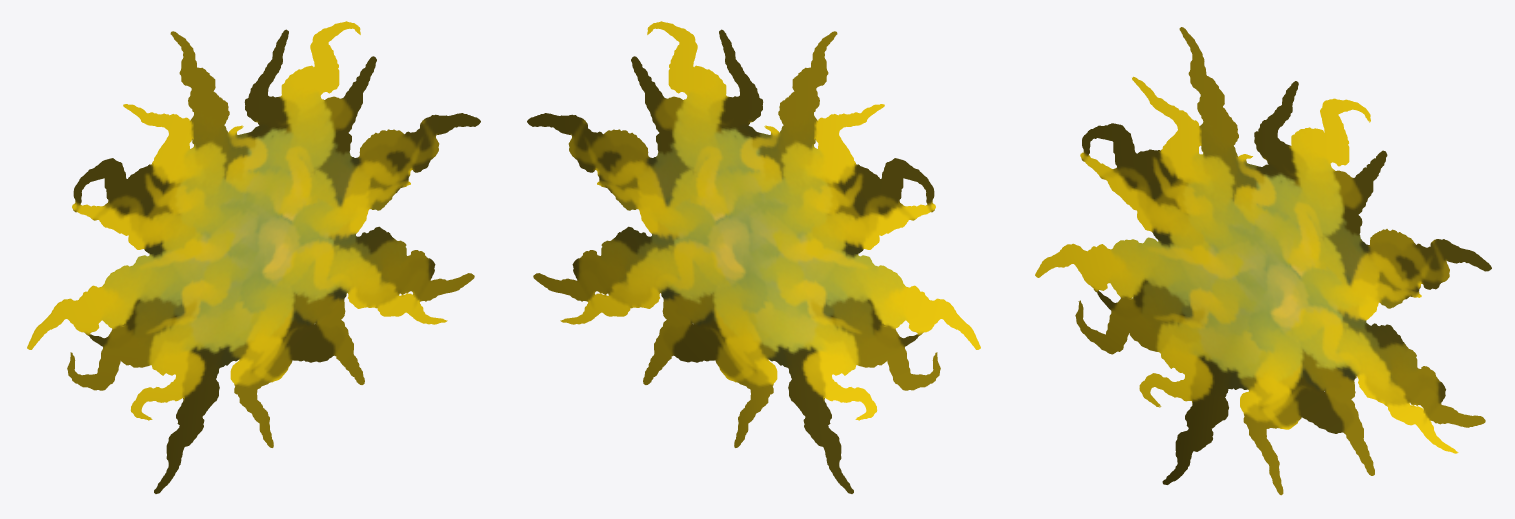
The model's file is HP3_weed051 1.fbx.
The picture shows the model from 3 angles, left to right: view 1: azimuth 30°, elevation 25°; view 2: azimuth 150°, elevation 25°; view 3: azimuth 330°, elevation 25°; orthographic projection.
Visible parts, largest first — view 1: HP3_weed051; view 2: HP3_weed051; view 3: HP3_weed051.
Part boxes in pixels (x1=…): HP3_weed051: x1=27, y1=21, x2=480, y2=493; HP3_weed051: x1=527, y1=21, x2=980, y2=493; HP3_weed051: x1=1035, y1=27, x2=1491, y2=495.
Bounding box in the file's own units: 10.16 × 9.79 × 0.04.
